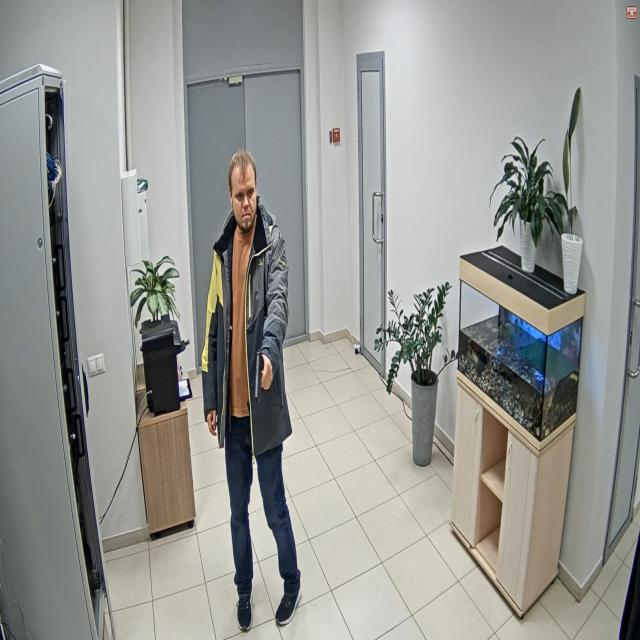-Gun: (254, 350, 264, 402)
